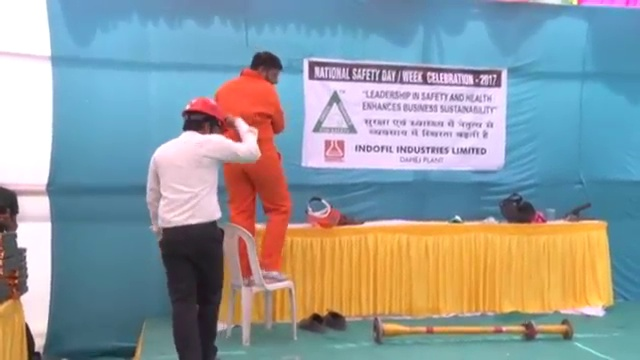helmet: (181, 95, 226, 127)
helmet_off: (247, 48, 280, 84)
helmet_on: (178, 94, 225, 138)
person: (141, 91, 258, 360), (219, 48, 294, 279)
